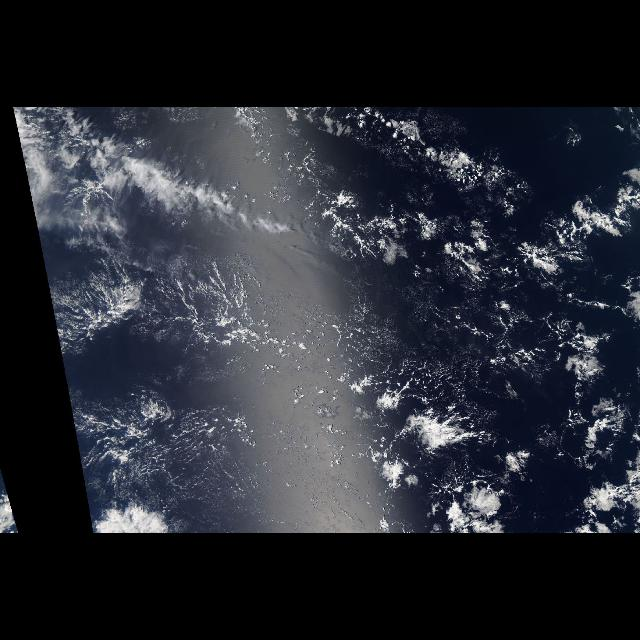Flower: (346, 185, 640, 530)
Sugar: (338, 270, 526, 396), (66, 384, 254, 506)
